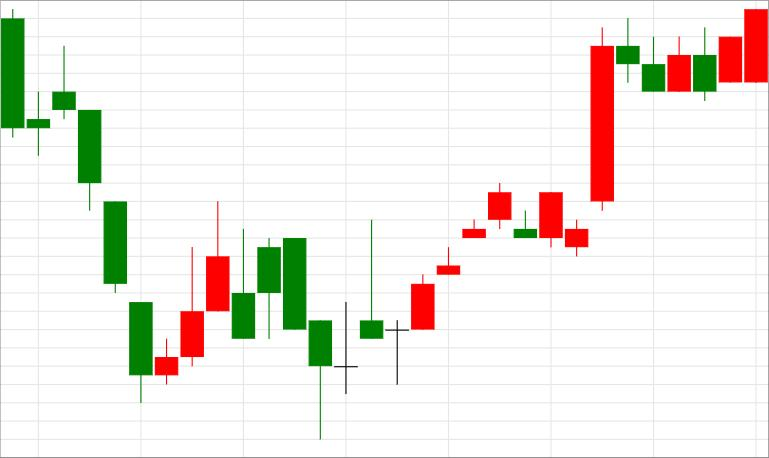three_white_soldiers_rise: (53, 46, 229, 404)
